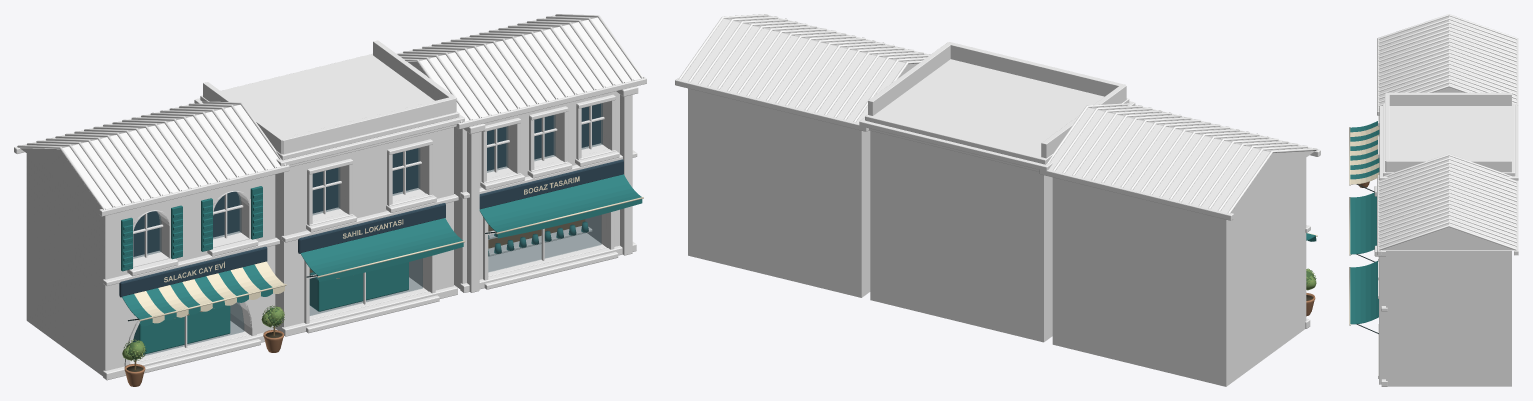
File: DistrictBlock_7_1.glb
3 views of the same model, side by side, from view 1: azimuth 30°, elevation 25°; view 2: azimuth 150°, elevation 25°; view 3: azimuth 270°, elevation 25° (orthographic). The views are drawn at different scales.
Parts seen in each view (by area): view 1: RK_DistrictBlock_7_1_LC_Lime, RK_DistrictBlock_7_1_LC_Tile, RK_DistrictBlock_7_1_LC_Cream, RK_DistrictBlock_7_1_LC_Teal, RK_DistrictBlock_7_1_LC_Coral, RK_DistrictBlock_7_1_LC_Wood, RK_DistrictBlock_7_1_LC_Ink, RK_DistrictBlock_7_1_LC_Glass, RK_DistrictBlock_7_1_LC_Canvas, RK_DistrictBlock_7_1_RK_Terracotta, RK_DistrictBlock_7_1_RK_Leaf, RK_DistrictBlock_7_1_LC_Interior; view 2: RK_DistrictBlock_7_1_LC_Cream, RK_DistrictBlock_7_1_LC_Coral, RK_DistrictBlock_7_1_LC_Wood, RK_DistrictBlock_7_1_LC_Tile, RK_DistrictBlock_7_1_LC_Lime; view 3: RK_DistrictBlock_7_1_LC_Tile, RK_DistrictBlock_7_1_LC_Wood, RK_DistrictBlock_7_1_LC_Lime, RK_DistrictBlock_7_1_LC_Teal, RK_DistrictBlock_7_1_LC_Coral, RK_DistrictBlock_7_1_LC_Canvas.
Part boxes in pixels (x1=…): RK_DistrictBlock_7_1_LC_Lime: x1=103, y1=53, x2=638, y2=380; RK_DistrictBlock_7_1_LC_Tile: x1=17, y1=14, x2=643, y2=209; RK_DistrictBlock_7_1_LC_Cream: x1=26, y1=153, x2=275, y2=376; RK_DistrictBlock_7_1_LC_Teal: x1=121, y1=174, x2=642, y2=354; RK_DistrictBlock_7_1_LC_Coral: x1=203, y1=40, x2=456, y2=331; RK_DistrictBlock_7_1_LC_Wood: x1=14, y1=15, x2=646, y2=363; RK_DistrictBlock_7_1_LC_Ink: x1=119, y1=103, x2=623, y2=297; RK_DistrictBlock_7_1_LC_Glass: x1=133, y1=103, x2=602, y2=355; RK_DistrictBlock_7_1_LC_Canvas: x1=134, y1=176, x2=643, y2=323; RK_DistrictBlock_7_1_RK_Terracotta: x1=124, y1=330, x2=284, y2=386; RK_DistrictBlock_7_1_RK_Leaf: x1=122, y1=305, x2=284, y2=361; RK_DistrictBlock_7_1_LC_Interior: x1=309, y1=219, x2=585, y2=272; RK_DistrictBlock_7_1_LC_Cream: x1=1052, y1=158, x2=1306, y2=386; RK_DistrictBlock_7_1_LC_Coral: x1=868, y1=42, x2=1126, y2=342; RK_DistrictBlock_7_1_LC_Wood: x1=675, y1=15, x2=1320, y2=297; RK_DistrictBlock_7_1_LC_Tile: x1=678, y1=14, x2=1317, y2=213; RK_DistrictBlock_7_1_LC_Lime: x1=859, y1=59, x2=1310, y2=328; RK_DistrictBlock_7_1_LC_Tile: x1=1378, y1=14, x2=1517, y2=250; RK_DistrictBlock_7_1_LC_Wood: x1=1377, y1=38, x2=1518, y2=386; RK_DistrictBlock_7_1_LC_Lime: x1=1374, y1=103, x2=1518, y2=386; RK_DistrictBlock_7_1_LC_Teal: x1=1350, y1=121, x2=1379, y2=324; RK_DistrictBlock_7_1_LC_Coral: x1=1385, y1=92, x2=1511, y2=172; RK_DistrictBlock_7_1_LC_Canvas: x1=1349, y1=125, x2=1379, y2=325.
Bounding box in the file's own units: 19.23 × 6.88 × 6.44.
